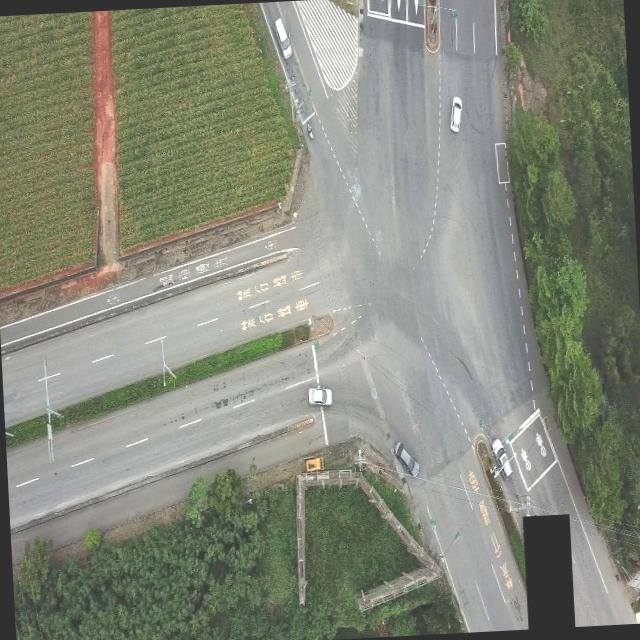bike: (305, 118, 316, 144)
car: (393, 439, 420, 478), (491, 436, 513, 481), (274, 16, 292, 60), (307, 383, 332, 408), (449, 95, 463, 132)
